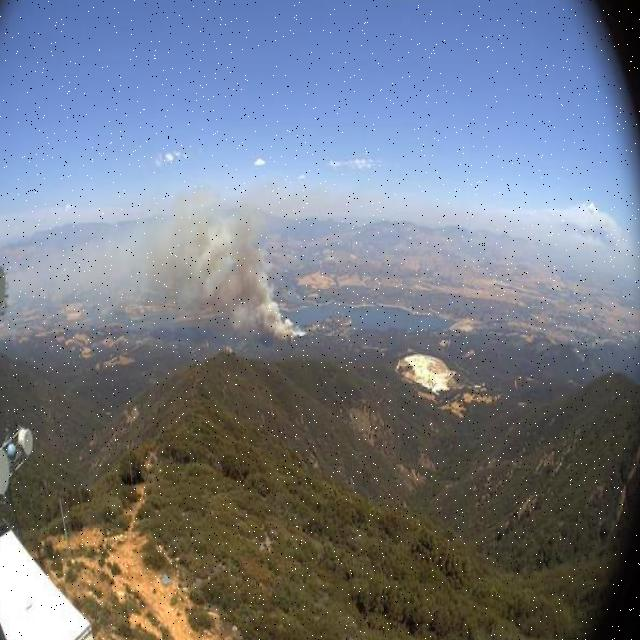smoke: (86, 172, 308, 343)
